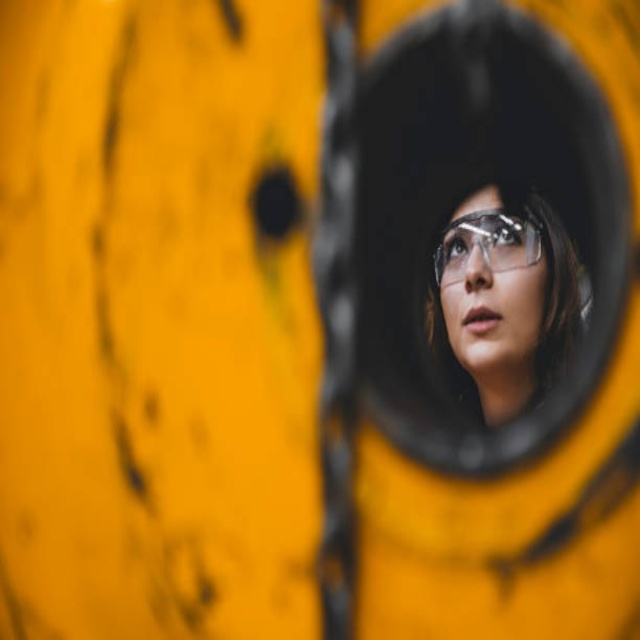Gafas: (433, 211, 545, 288)
Sin_mascara: (455, 295, 509, 359)
